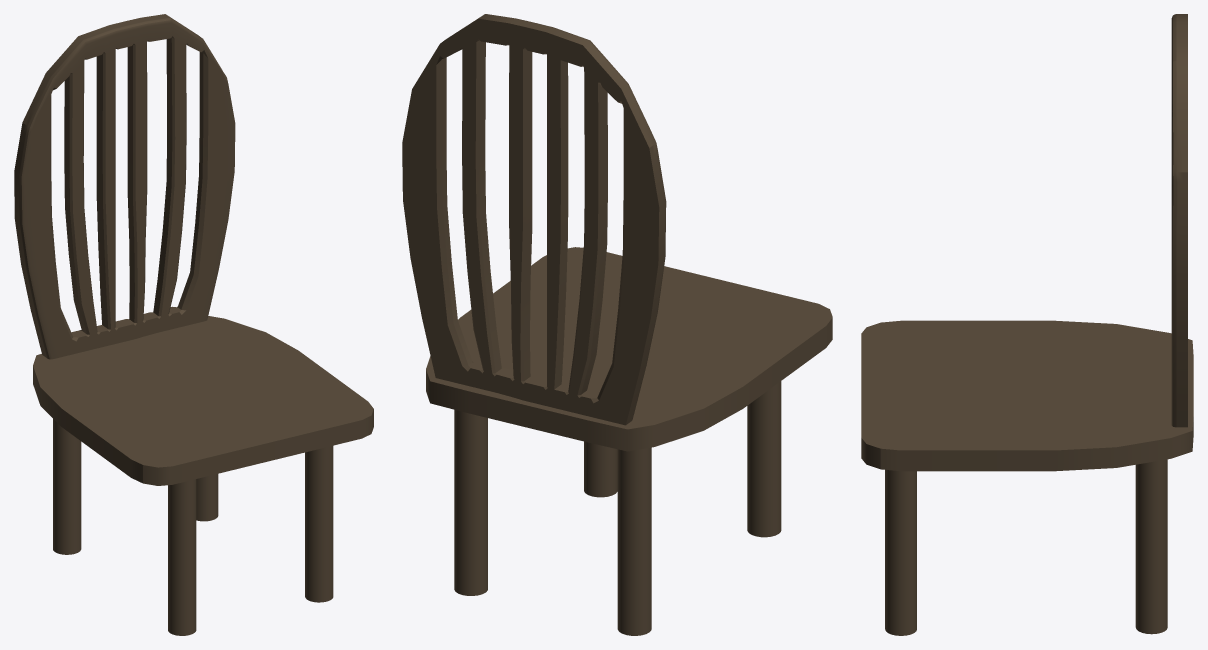
File: Chair 1.2.fbx
The picture shows the model from 3 angles, left to right: view 1: azimuth 30°, elevation 25°; view 2: azimuth 150°, elevation 25°; view 3: azimuth 270°, elevation 25°; orthographic projection. The views are drawn at different scales.
Visible parts, largest first — view 1: pCylinder14; view 2: pCylinder14; view 3: pCylinder14.
Boxes of the visible parts, bbox=[...] form: pCylinder14: bbox=[14, 14, 373, 635]; pCylinder14: bbox=[402, 14, 832, 635]; pCylinder14: bbox=[861, 14, 1193, 635].
Size of the model in its own units: 4.06 by 8.15 by 4.4.
